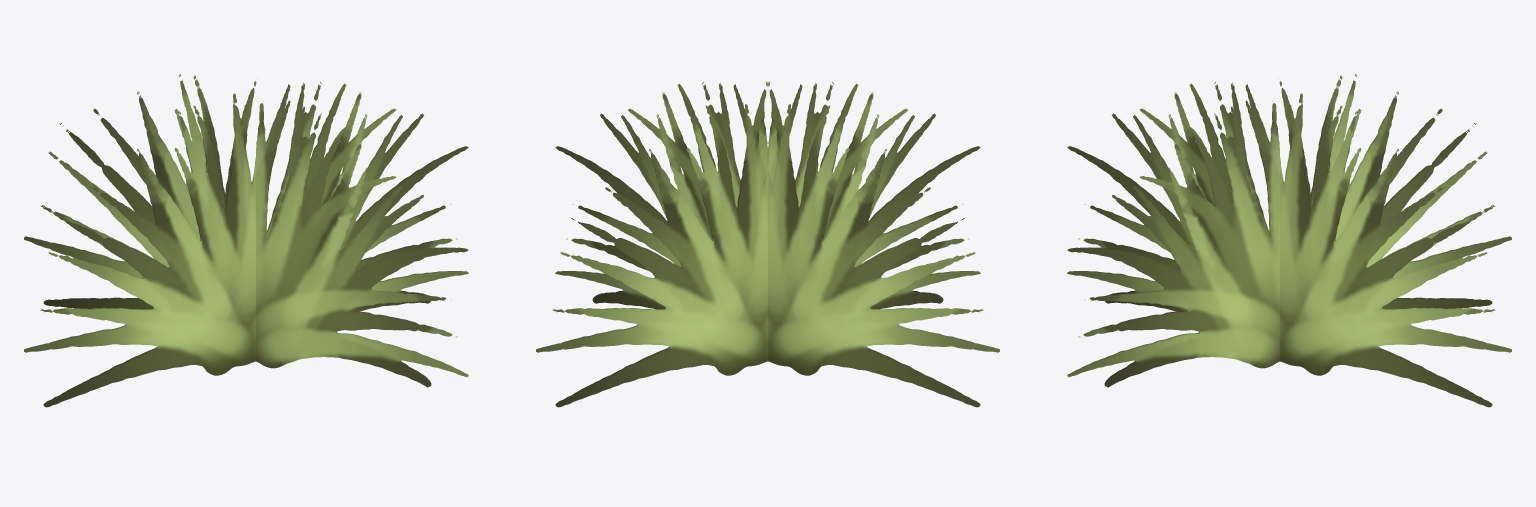
Rendered from painted-weed-3.glb.
The picture shows the model from 3 angles, left to right: view 1: azimuth 30°, elevation 25°; view 2: azimuth 150°, elevation 25°; view 3: azimuth 270°, elevation 25°; orthographic projection.
Size of the model in its own units: 10 by 6.65 by 8.68.
Materials: 1 (1 with a texture image).
